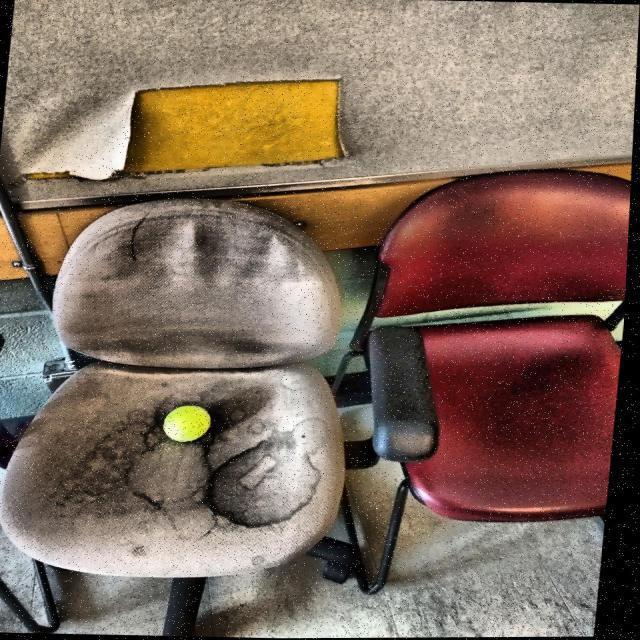tennis-ball: (164, 401, 218, 452)
